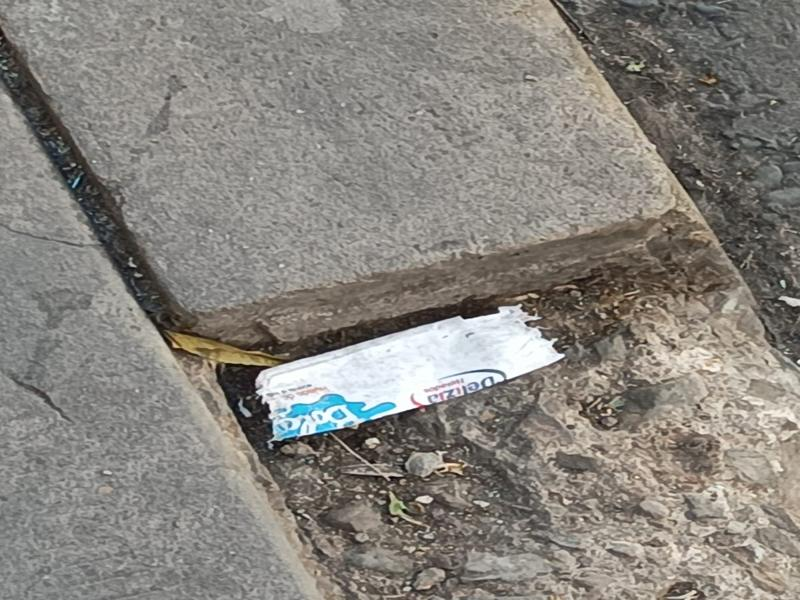papel: (252, 307, 565, 444)
